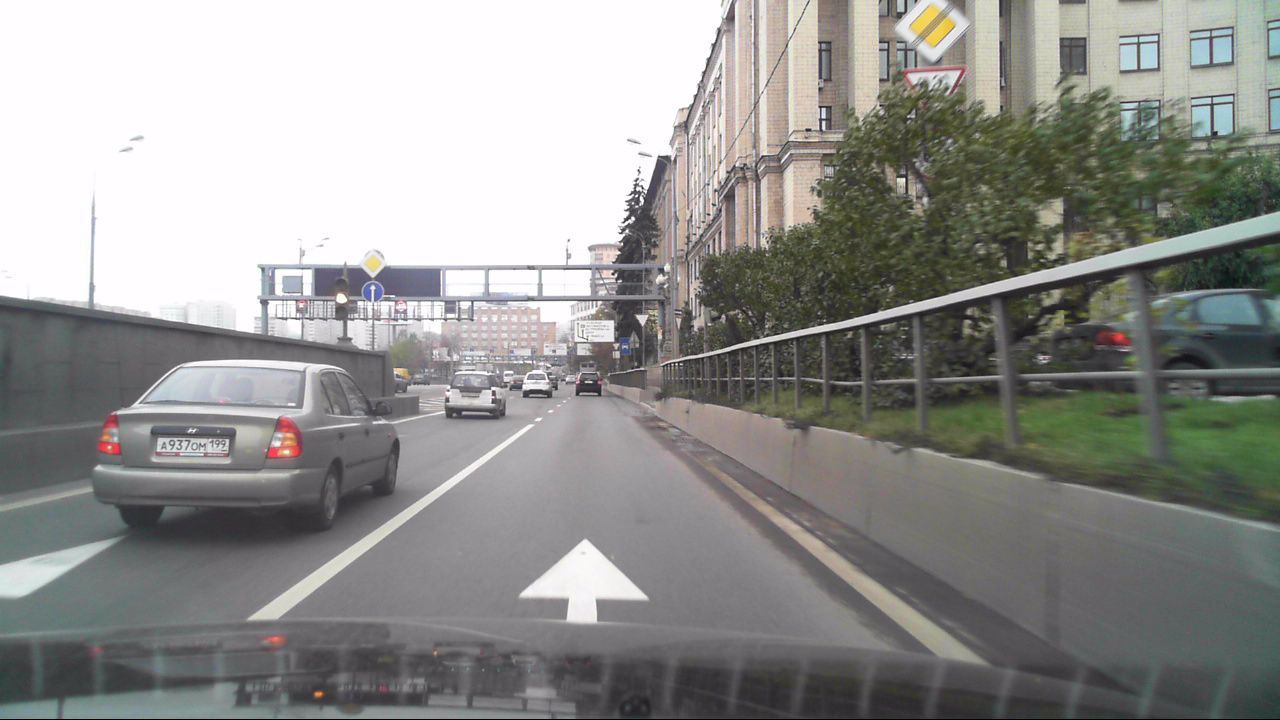main road: (897, 9, 971, 65)
